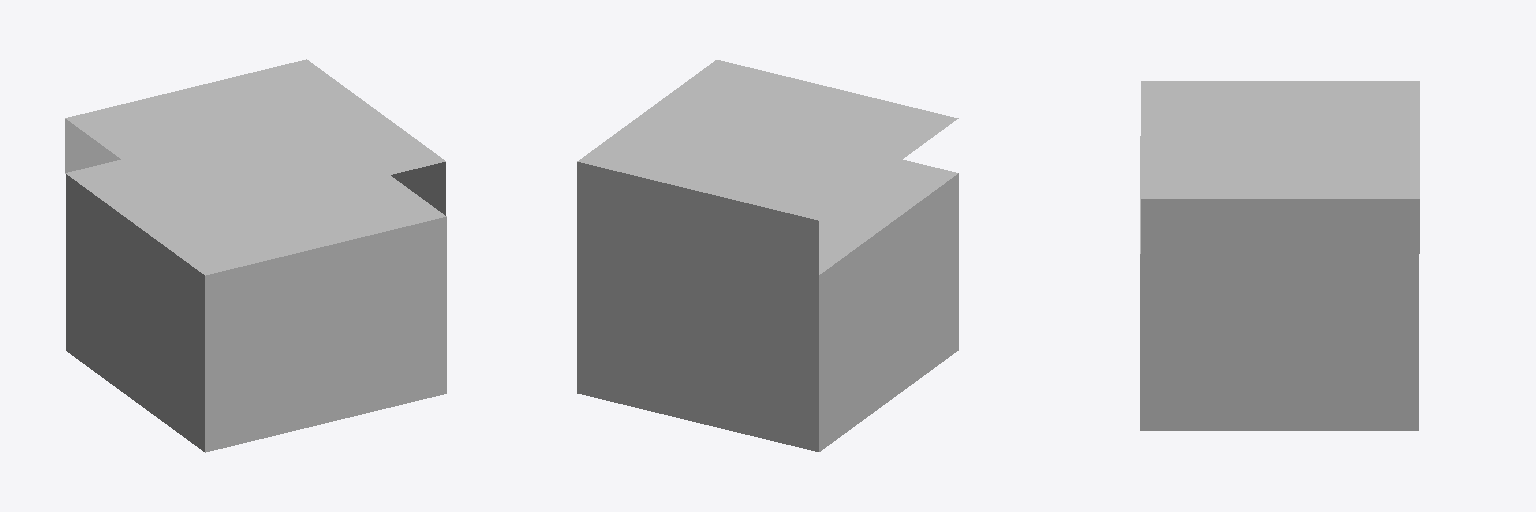
The model's file is water_two.54849dd6.obj.
The picture shows the model from 3 angles: view 1: azimuth 30°, elevation 25°; view 2: azimuth 150°, elevation 25°; view 3: azimuth 270°, elevation 25°; orthographic projection.
Parts seen in each view (by area): view 1: Water_two_Cube.005; view 2: Water_two_Cube.005; view 3: Water_two_Cube.005.
Boxes of the visible parts, x1=… form: Water_two_Cube.005: x1=65, y1=59, x2=446, y2=452; Water_two_Cube.005: x1=577, y1=60, x2=958, y2=451; Water_two_Cube.005: x1=1140, y1=81, x2=1419, y2=430.
Bounding box in the file's own units: 0.5001 × 0.4586 × 0.5012.